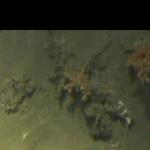alive: (1, 30, 150, 149)
